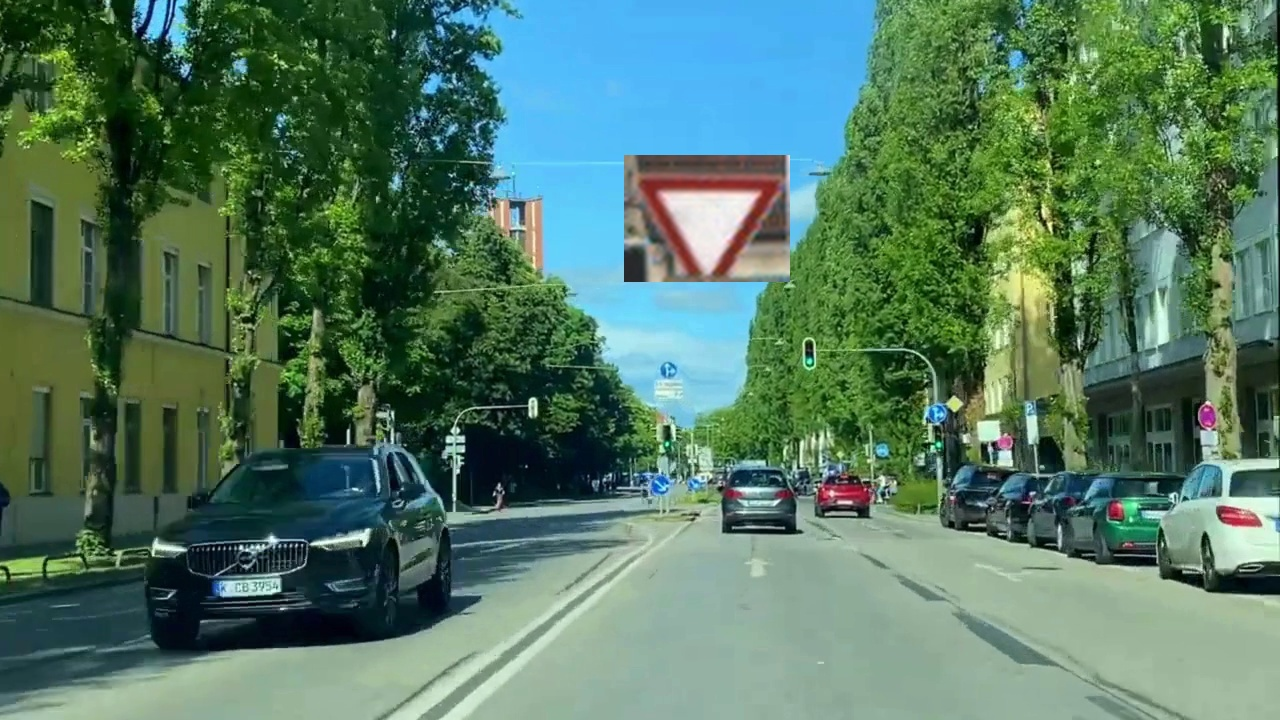Yield: (624, 155, 790, 282)
